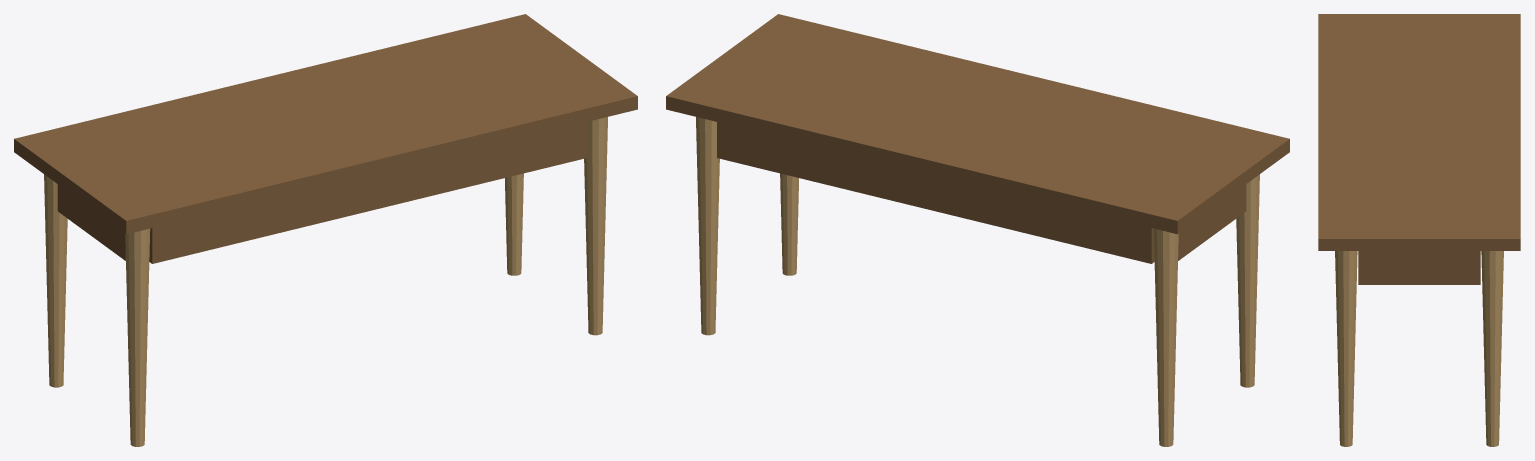
The model's file is ATL-EBN-std.glb.
3 views of the same model, side by side, from view 1: azimuth 30°, elevation 25°; view 2: azimuth 150°, elevation 25°; view 3: azimuth 270°, elevation 25° (orthographic). The views are drawn at different scales.
Visible parts, largest first — view 1: top:pbr, apron-f:pbr, leg-fl:pbr, leg-fr:pbr, leg-bl:pbr, apron-l:pbr, leg-br:pbr; view 2: top:pbr, apron-b:pbr, leg-bl:pbr, leg-br:pbr, leg-fl:pbr, apron-l:pbr, leg-fr:pbr; view 3: top:pbr, apron-r:pbr, leg-fr:pbr, leg-br:pbr.
Boxes of the visible parts, x1,y1,x2,y2 form: top:pbr: [14, 14, 637, 234]; apron-f:pbr: [149, 122, 586, 263]; leg-fl:pbr: [125, 228, 150, 446]; leg-fr:pbr: [584, 117, 607, 335]; leg-bl:pbr: [44, 174, 67, 387]; apron-l:pbr: [57, 184, 125, 260]; leg-br:pbr: [505, 173, 523, 275]; top:pbr: [666, 14, 1289, 234]; apron-b:pbr: [717, 122, 1154, 263]; leg-bl:pbr: [1153, 228, 1178, 446]; leg-br:pbr: [696, 117, 719, 335]; leg-fl:pbr: [1236, 174, 1259, 387]; apron-l:pbr: [1178, 184, 1246, 260]; leg-fr:pbr: [780, 173, 798, 275]; top:pbr: [1318, 14, 1520, 250]; apron-r:pbr: [1358, 251, 1480, 284]; leg-fr:pbr: [1335, 251, 1357, 446]; leg-br:pbr: [1481, 251, 1503, 446].
Bounding box in the file's own units: 1 × 0.45 × 0.38.
